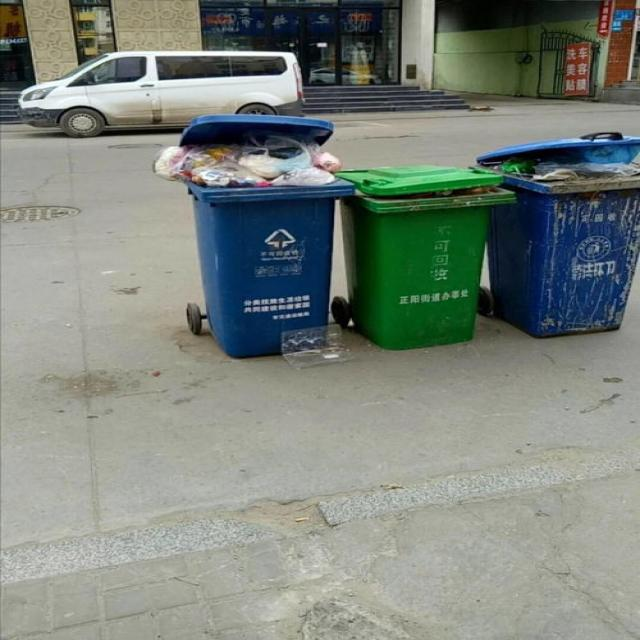garbage_bin: (334, 164, 515, 346)
overflow: (150, 113, 354, 361), (470, 132, 638, 338)
